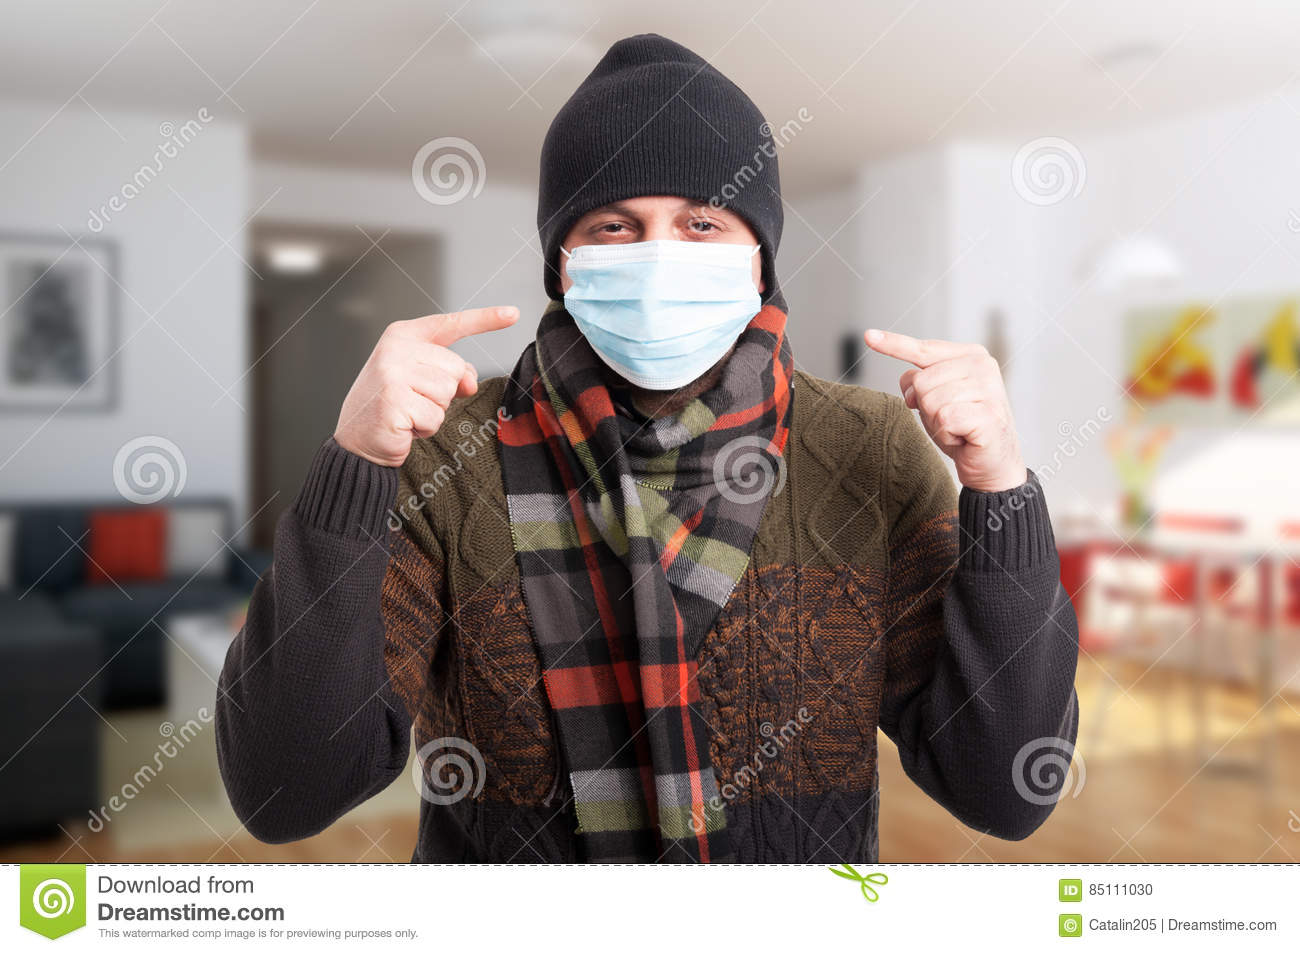mask: (564, 241, 761, 389)
